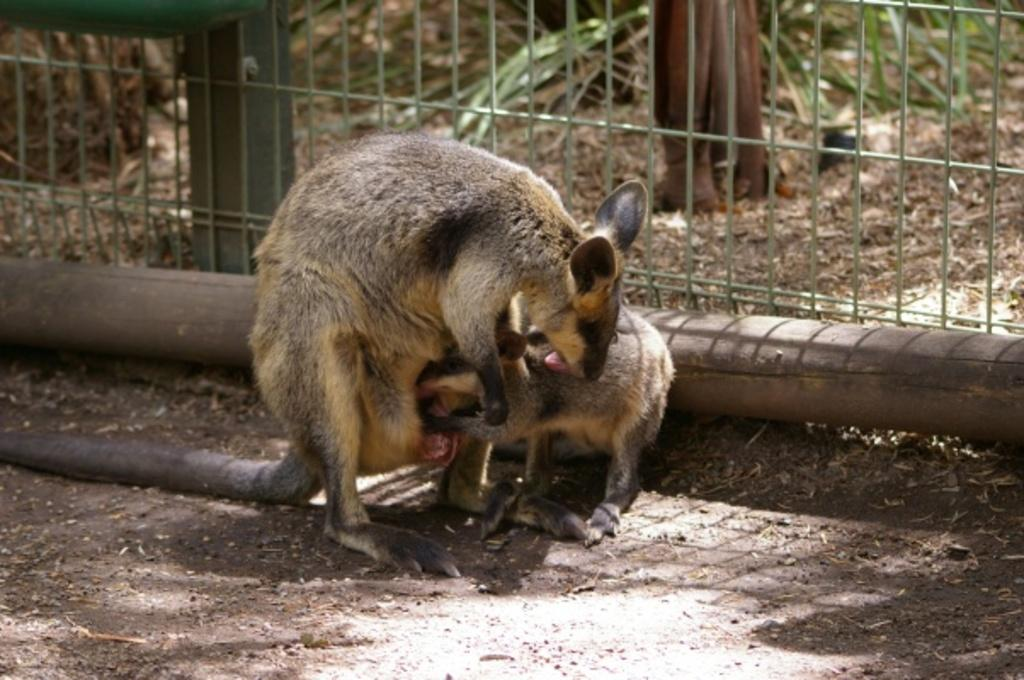kangaroo: (7, 140, 643, 584), (412, 299, 678, 544)
